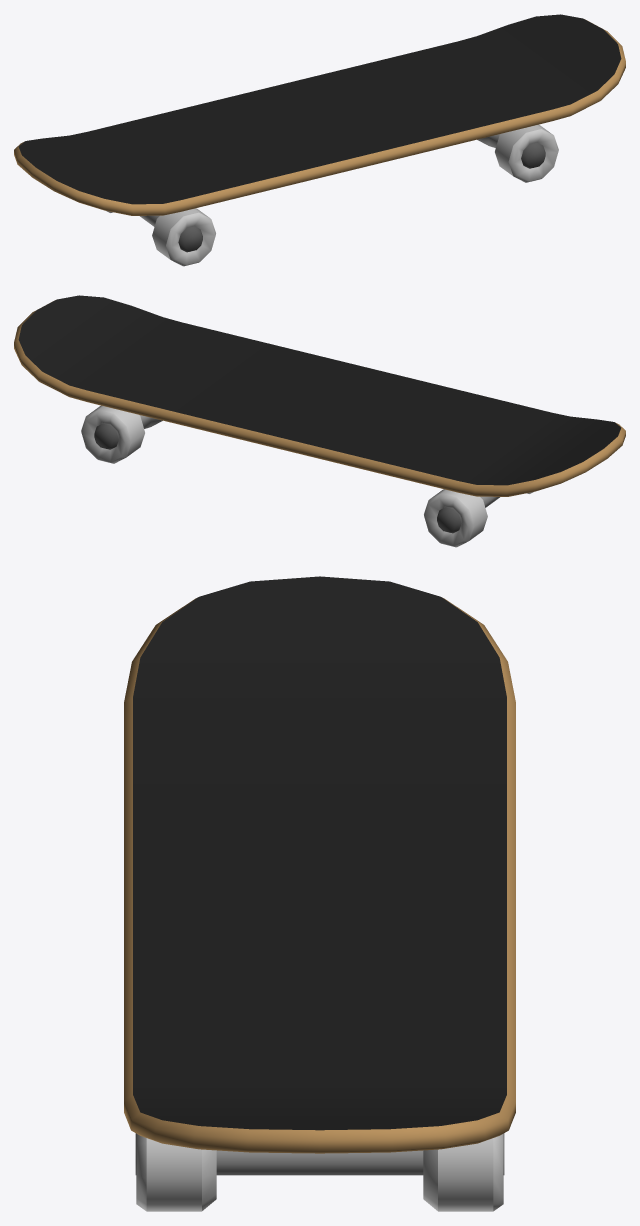
Rendered from Entity_Skateboard.FBX.
3 renders of one model, top to bottom at view 1: azimuth 30°, elevation 25°; view 2: azimuth 150°, elevation 25°; view 3: azimuth 270°, elevation 25°, orthographic. The views are drawn at different scales.
Visible parts, largest first — view 1: Skateboard, Wheel001, Wheel; view 2: Skateboard, Wheel003, Wheel002; view 3: Skateboard, Wheel002, Wheel, Axel.
Part boxes in pixels (x1,y1,x2,y2): Skateboard: [14, 14, 625, 215]; Wheel001: [152, 208, 215, 266]; Wheel: [495, 124, 558, 182]; Skateboard: [14, 295, 625, 496]; Wheel003: [424, 489, 487, 547]; Wheel002: [81, 405, 144, 463]; Skateboard: [124, 576, 515, 1153]; Wheel002: [423, 1133, 504, 1211]; Wheel: [135, 1133, 216, 1211]; Axel: [216, 1150, 423, 1175].
Bounding box in the file's own units: 264 × 40.43 × 77.98.
